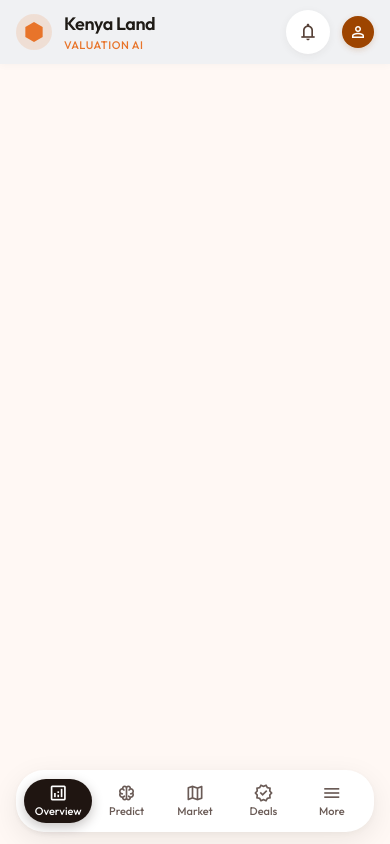
A1: Notifications (rail + header bell, shared panel) › opening the panel shows the suspect + flagged counts from /overview/summary
The image size is (390, 844).
What coordinates should you click on to do the following:
click the button named "Notifications"
I would click on:
 (308, 32)
Its box is [286,10,330,54].
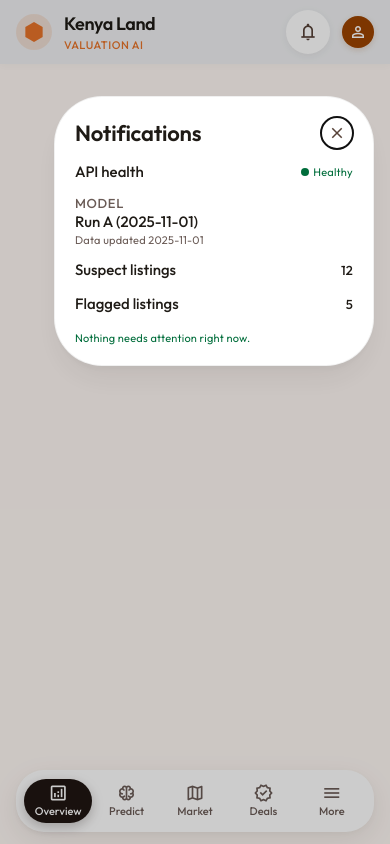
Now the dialog "Notifications" shows "12", box [341,262,353,278]
Now the dialog "Notifications" shows "5", box [346,296,353,312]
